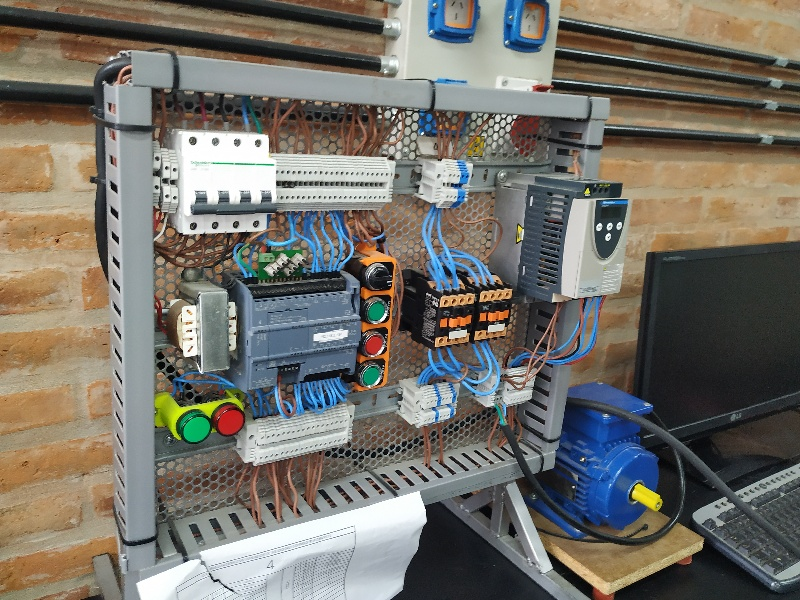Tablero 4: (134, 66, 628, 494)
